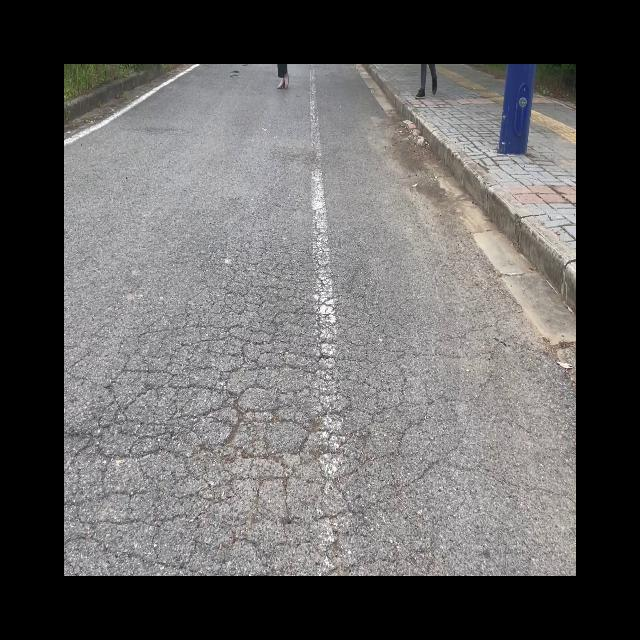retak_kulit_buaya: (79, 229, 402, 576)
